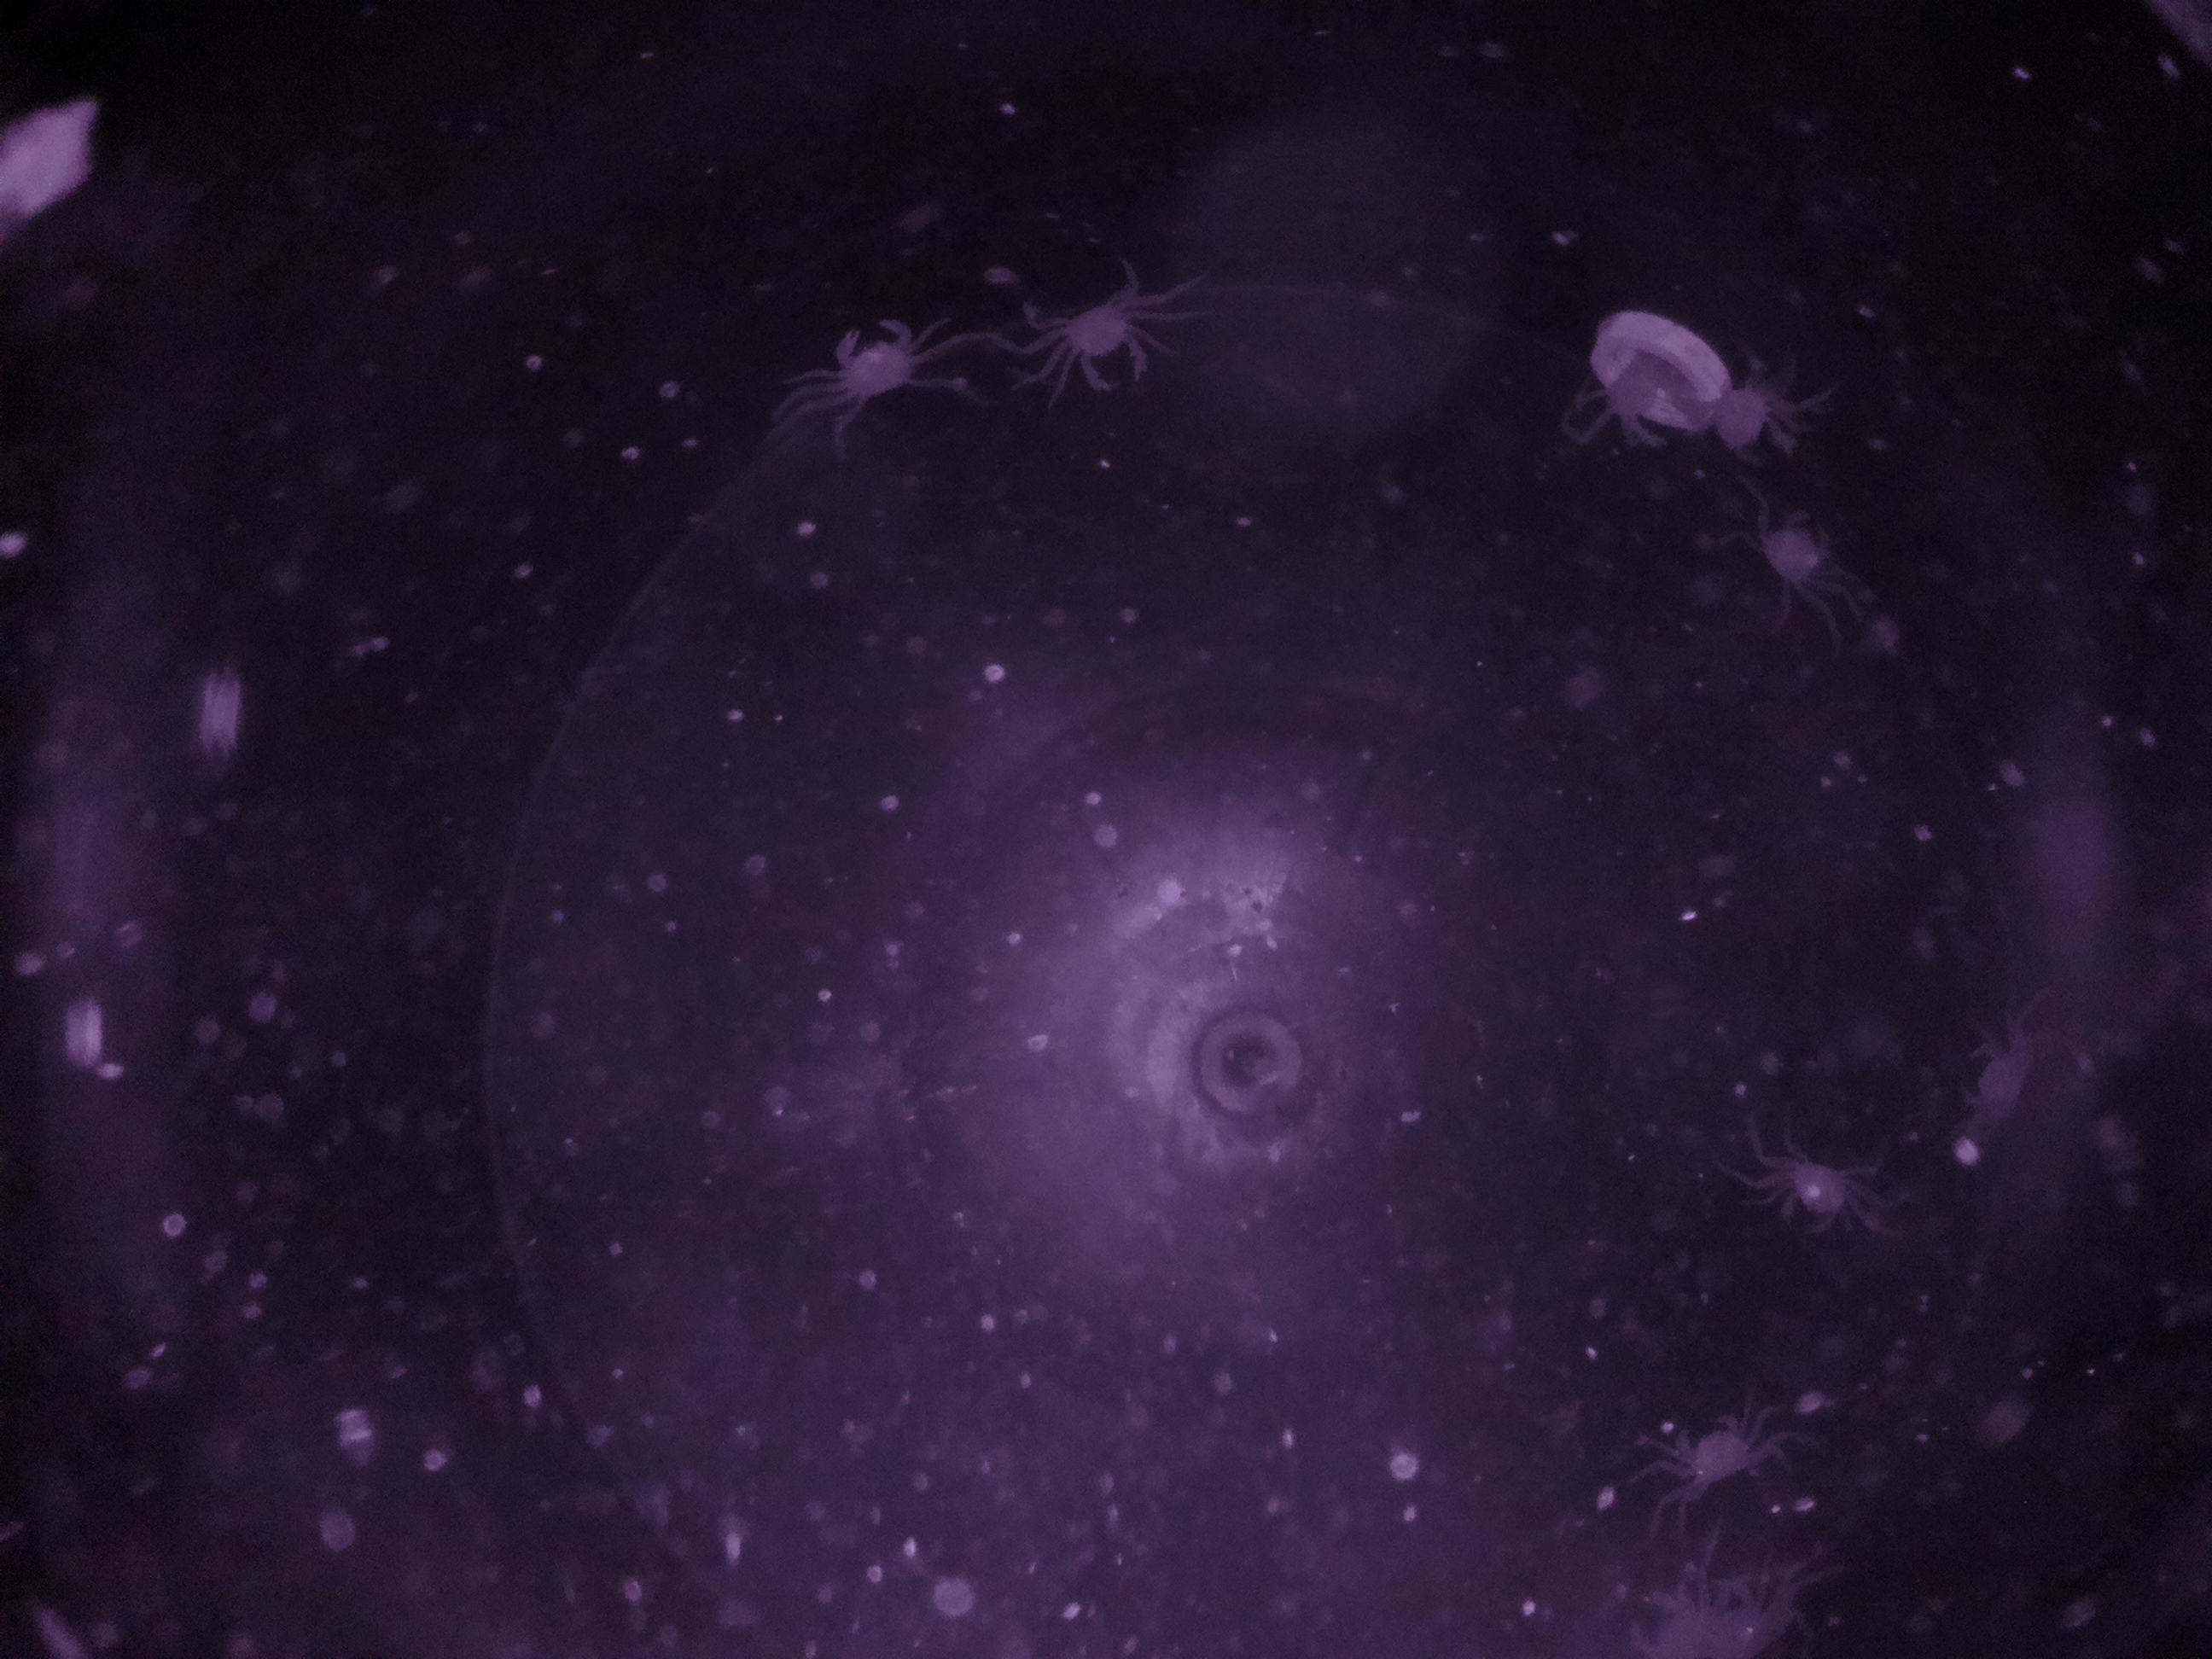Crab: (1658, 1389, 1785, 1500), (1752, 481, 1851, 606), (1054, 291, 1165, 399), (827, 307, 937, 406), (1778, 1129, 1864, 1249)
